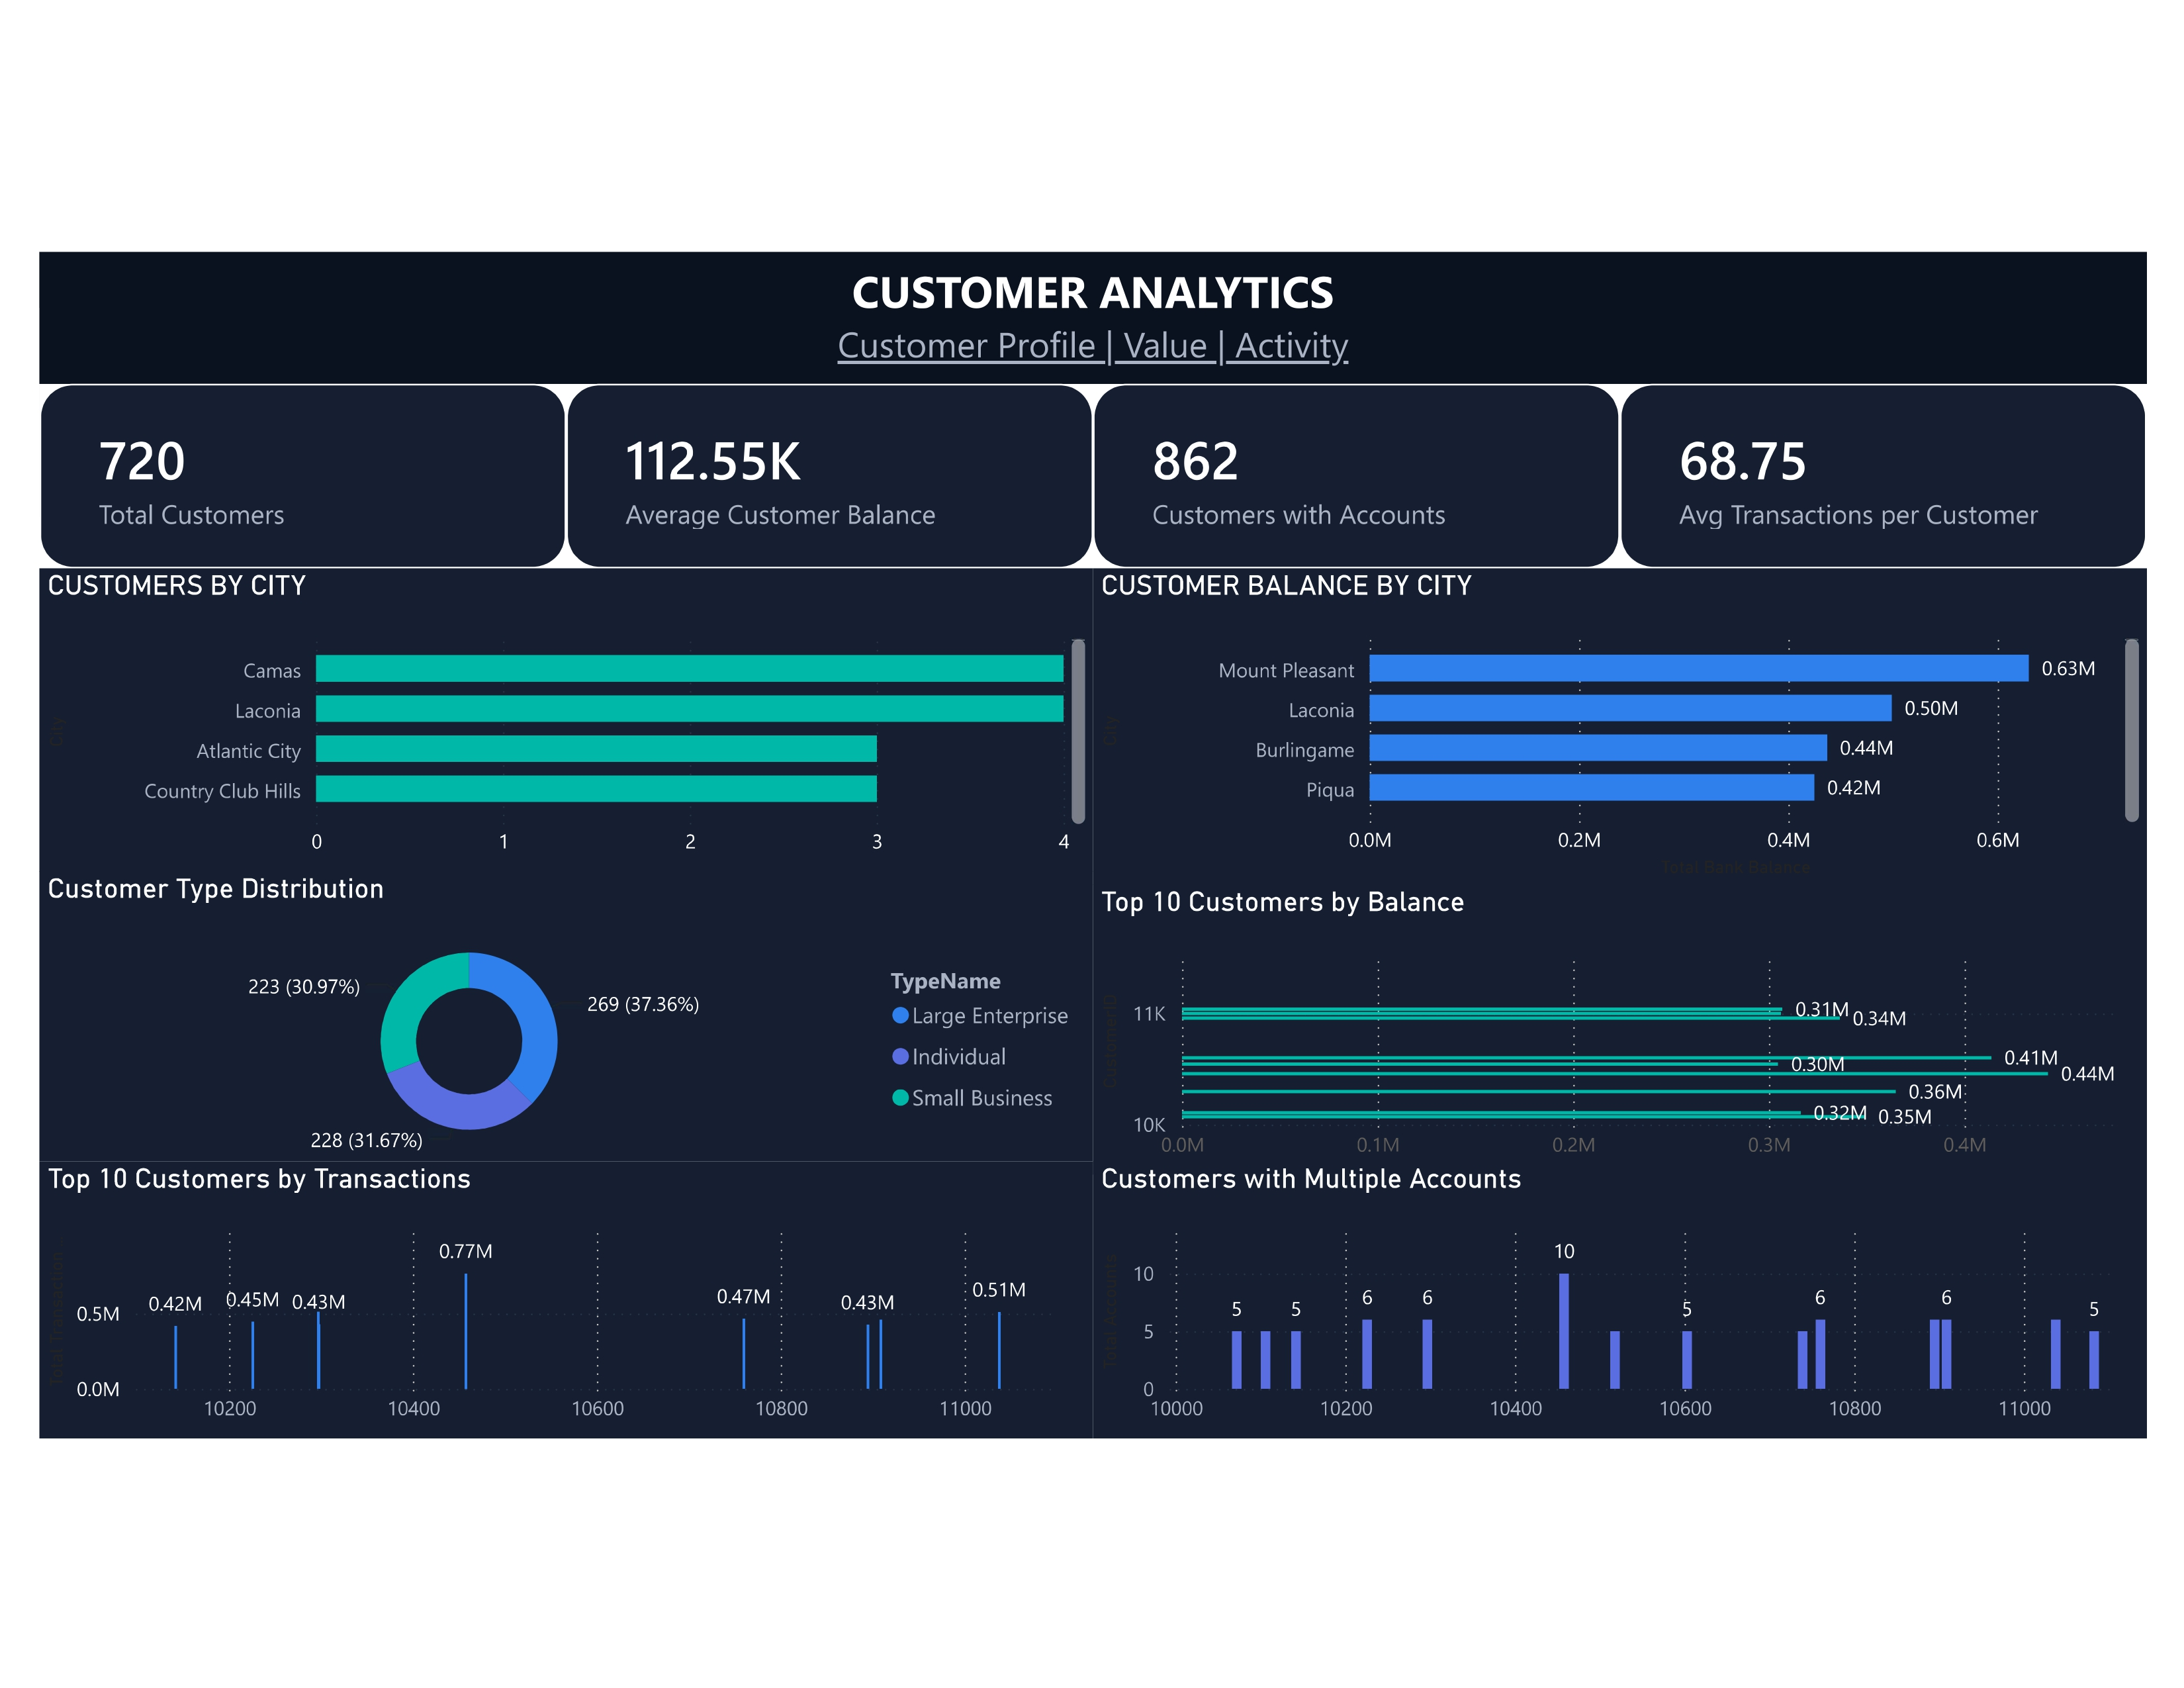

The page's visual inventory and layout, read from the dashboard file:
{"tool":"powerbi","page":{"name":"Customer Analytics","canvas":[1280,720],"ordinal":2},"visuals":[{"type":"textbox","box":[0,0,1280,80],"z":0},{"type":"cardVisual","fields":{"Data":["Measuers.Total Customers"]},"box":[0,80,320,112],"z":1000},{"type":"cardVisual","fields":{"Data":["Measuers.Average Customer Balance"]},"box":[320,80,320,112],"z":2000},{"type":"cardVisual","fields":{"Data":["Measuers.Avg Transactions per Customer"]},"box":[960,80,320,112],"z":3000},{"type":"cardVisual","fields":{"Data":["Measuers.Customers with Accounts"]},"box":[640,80,320,112],"z":4000},{"type":"clusteredBarChart","title":"CUSTOMERS BY CITY ","fields":{"Y":["Measuers.Total Customers"],"Category":["addresses.City"]},"box":[0,192,640,184],"z":5000},{"type":"clusteredBarChart","title":"CUSTOMER BALANCE BY CITY","fields":{"Category":["addresses.City"],"Y":["Measuers.Total Bank Balance"]},"box":[640,192,640,192],"z":6000},{"type":"donutChart","title":"Customer Type Distribution","fields":{"Category":["customer_types.TypeName"],"Y":["Measuers.Total Customers"]},"box":[0,376,640,176],"z":7000},{"type":"clusteredBarChart","title":"Top 10 Customers by Balance","fields":{"Category":["customers.CustomerID"],"Y":["Measuers.Total Bank Balance"]},"box":[640,384,640,176],"z":8000},{"type":"clusteredColumnChart","title":"Top 10 Customers by Transactions","fields":{"Category":["customers.CustomerID"],"Y":["Measuers.Total Transaction Value"]},"box":[0,552,640,168],"z":9000},{"type":"clusteredColumnChart","title":"Customers with Multiple Accounts","fields":{"Category":["customers.CustomerID"],"Y":["Measuers.Total Accounts"]},"box":[640,552,640,168],"z":10000}]}

Visuals, with their boxes on the page's 1280x720 design canvas (x1, y1, x2, y2). These are canvas units, not pixel positions in the 2184x1688 screenshot, which may show the page scaled, cropped or inside an application window:
textbox: bbox=[0, 0, 1280, 80]
cardVisual - Measuers.Total Customers: bbox=[0, 80, 320, 192]
cardVisual - Measuers.Average Customer Balance: bbox=[320, 80, 640, 192]
cardVisual - Measuers.Avg Transactions per Customer: bbox=[960, 80, 1280, 192]
cardVisual - Measuers.Customers with Accounts: bbox=[640, 80, 960, 192]
"CUSTOMERS BY CITY " clusteredBarChart: bbox=[0, 192, 640, 376]
"CUSTOMER BALANCE BY CITY" clusteredBarChart: bbox=[640, 192, 1280, 384]
"Customer Type Distribution" donutChart: bbox=[0, 376, 640, 552]
"Top 10 Customers by Balance" clusteredBarChart: bbox=[640, 384, 1280, 560]
"Top 10 Customers by Transactions" clusteredColumnChart: bbox=[0, 552, 640, 720]
"Customers with Multiple Accounts" clusteredColumnChart: bbox=[640, 552, 1280, 720]
